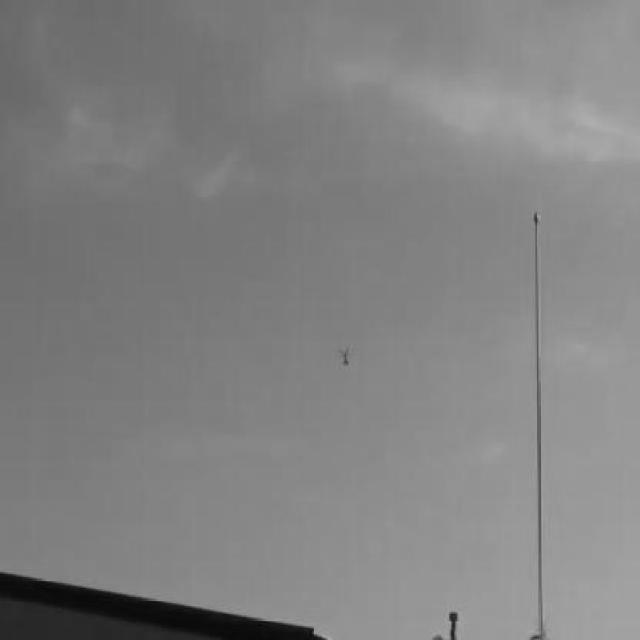helikopter: (341, 346, 352, 366)
